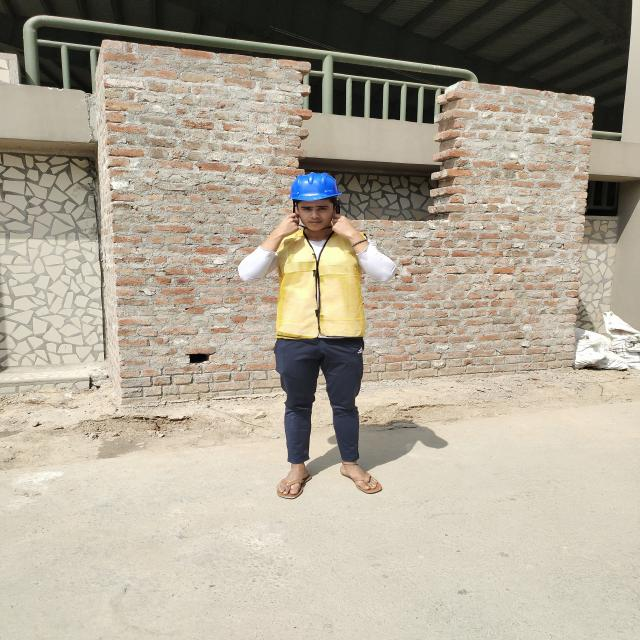safe: (256, 175, 388, 499)
